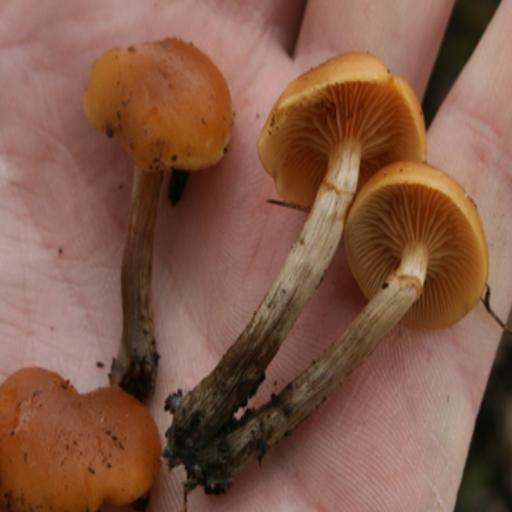Funeral Bell: (25, 27, 512, 512), (44, 25, 242, 404), (0, 368, 161, 511)
